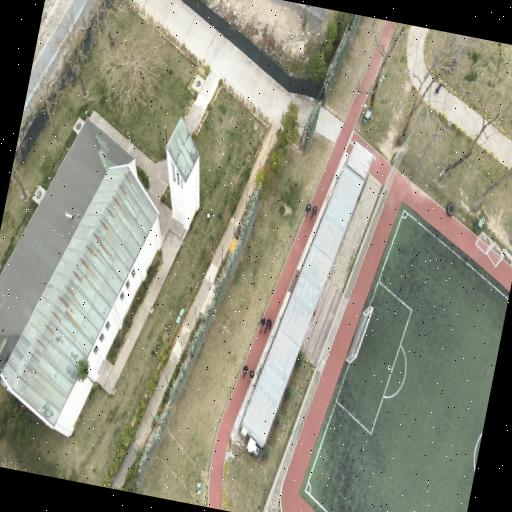person: (305, 203, 311, 218), (434, 84, 442, 95), (260, 318, 266, 332), (266, 320, 272, 331), (249, 369, 255, 380), (312, 206, 317, 218), (243, 365, 248, 377)
